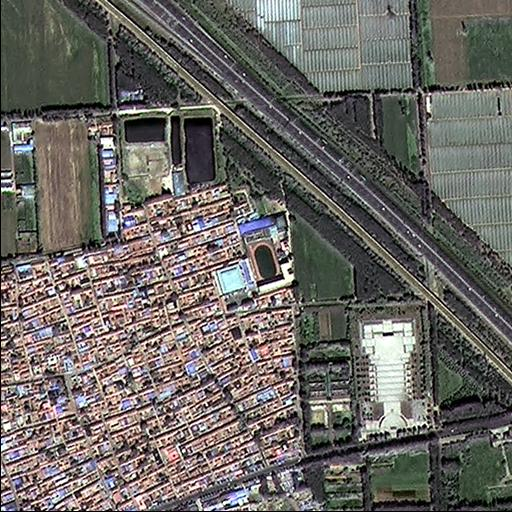school: (212, 208, 295, 314)
